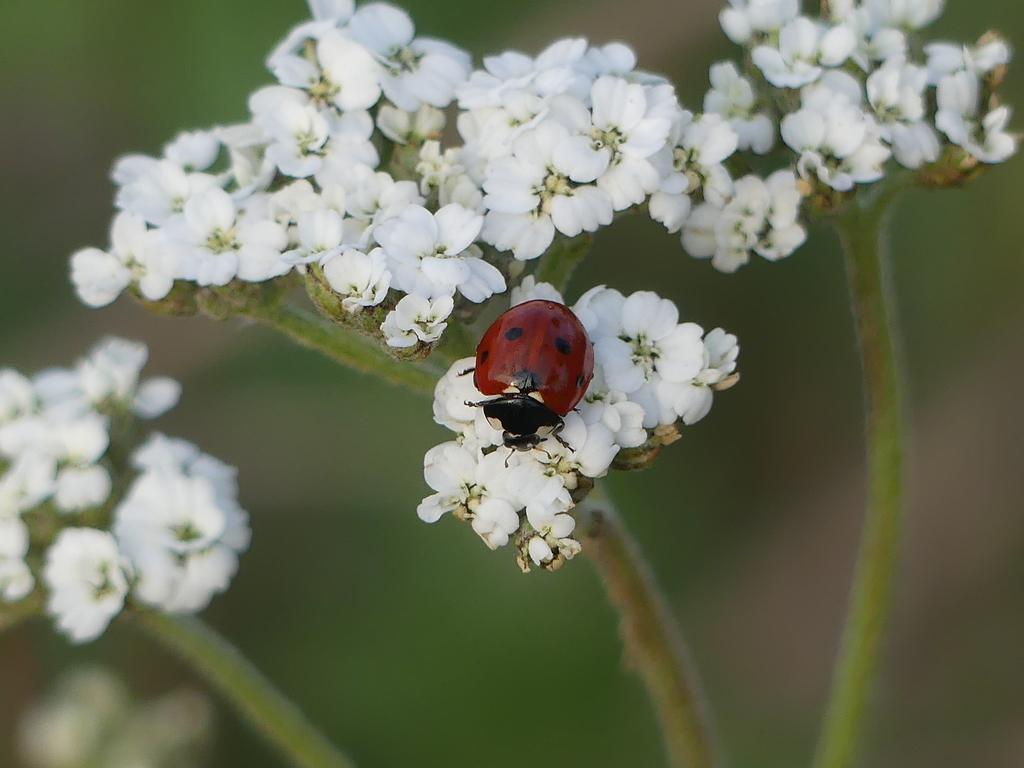ladybug: (459, 299, 601, 471)
